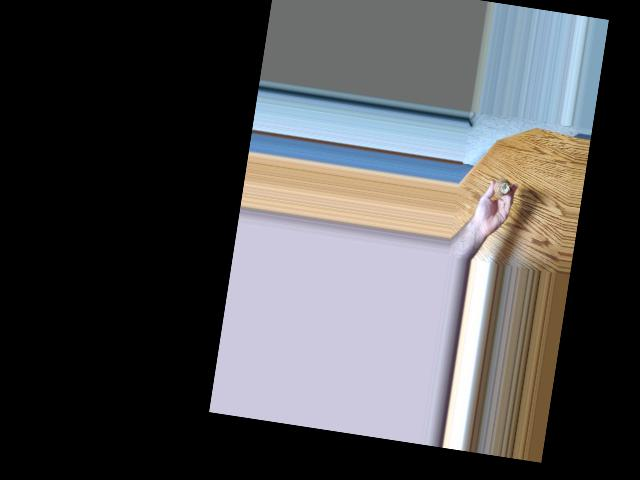sweet_potato: (490, 176, 511, 194)
